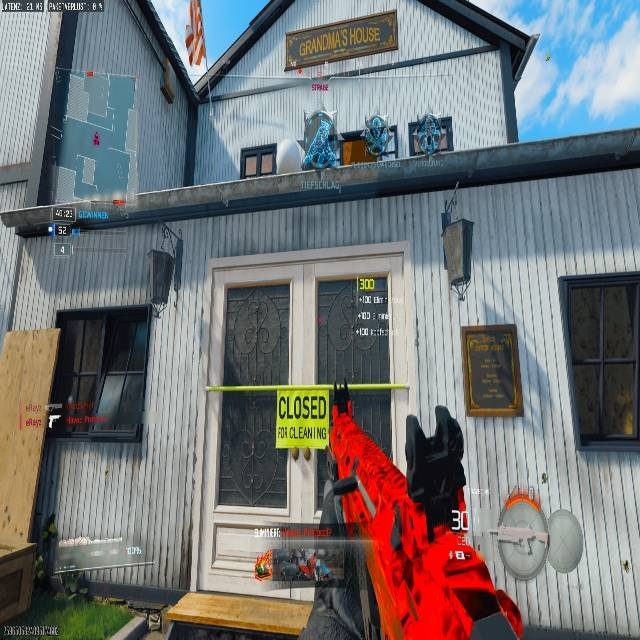head: (305, 107, 333, 130), (434, 404, 452, 423), (368, 115, 384, 135)
player: (305, 383, 430, 637), (403, 403, 468, 534), (301, 109, 342, 168), (362, 113, 395, 160)
